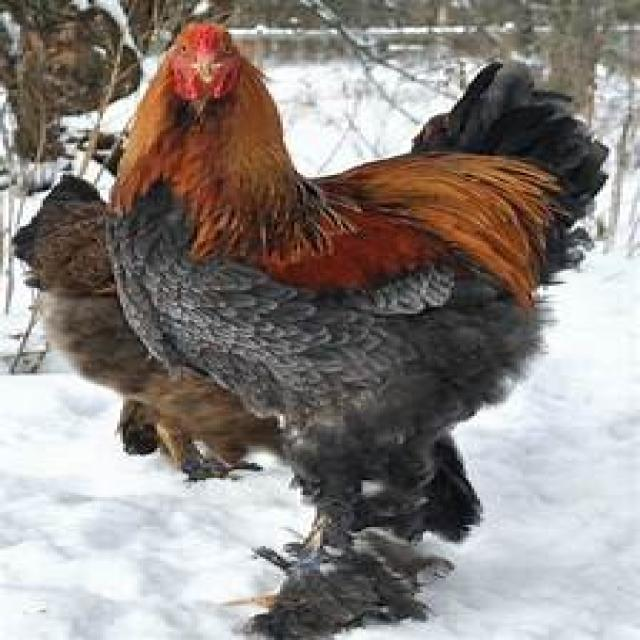hen: (109, 24, 604, 640)
